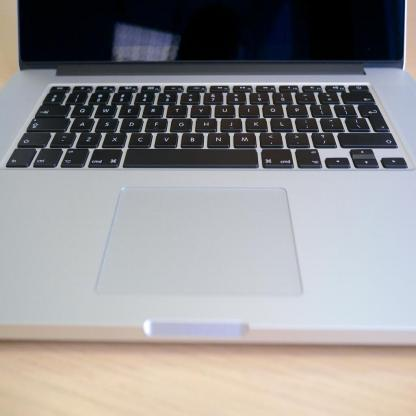board: (0, 0, 415, 347)
